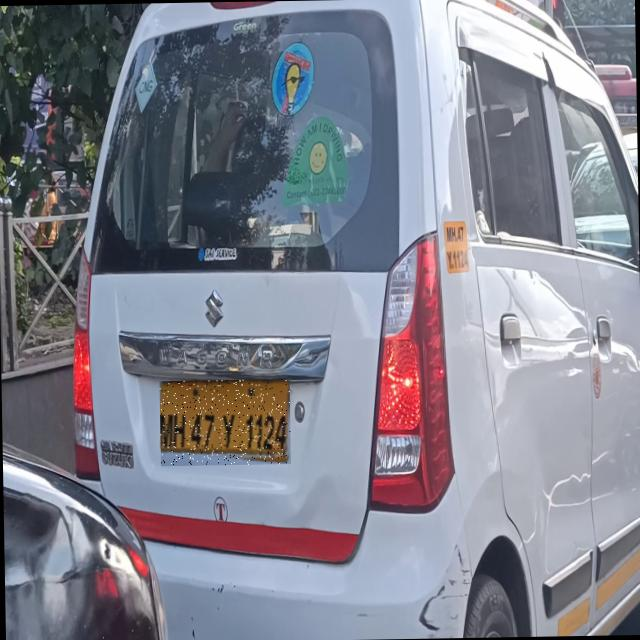Plate: (161, 380, 292, 467)
